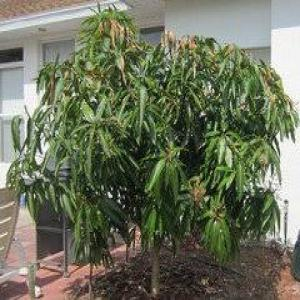Tree: (10, 5, 295, 292)
